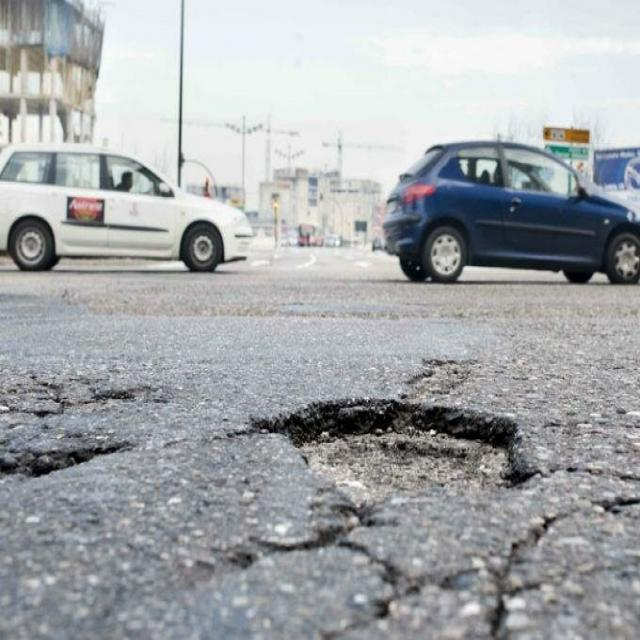Pothole: (262, 351, 586, 580), (1, 338, 174, 518)
